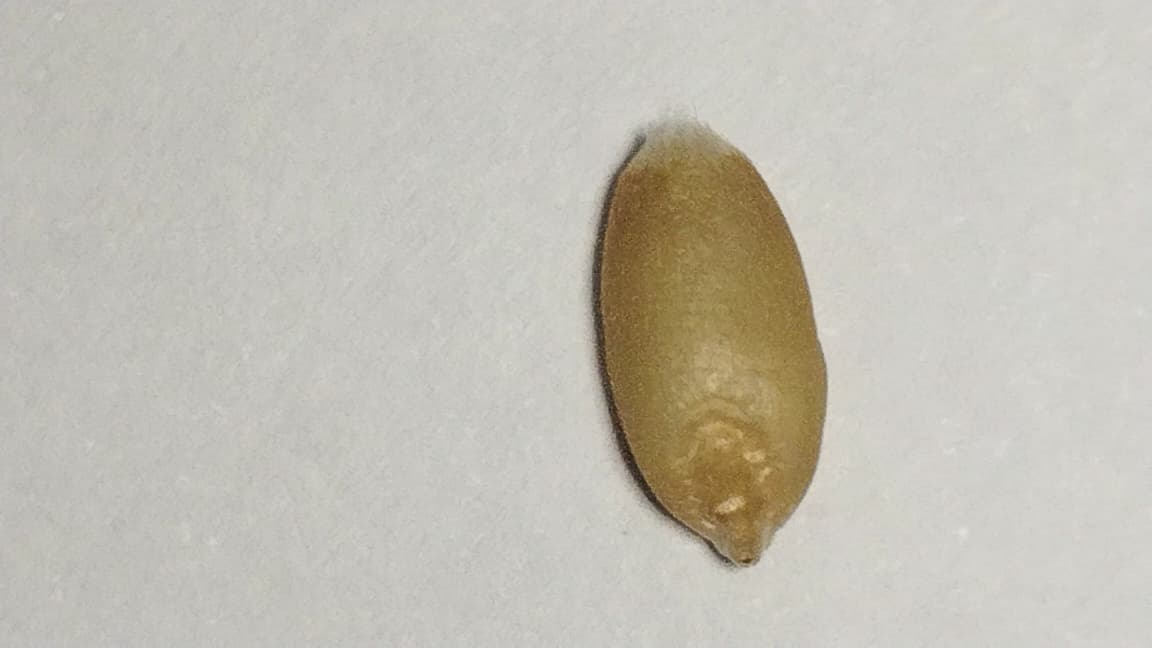healthy: (593, 121, 828, 566)
